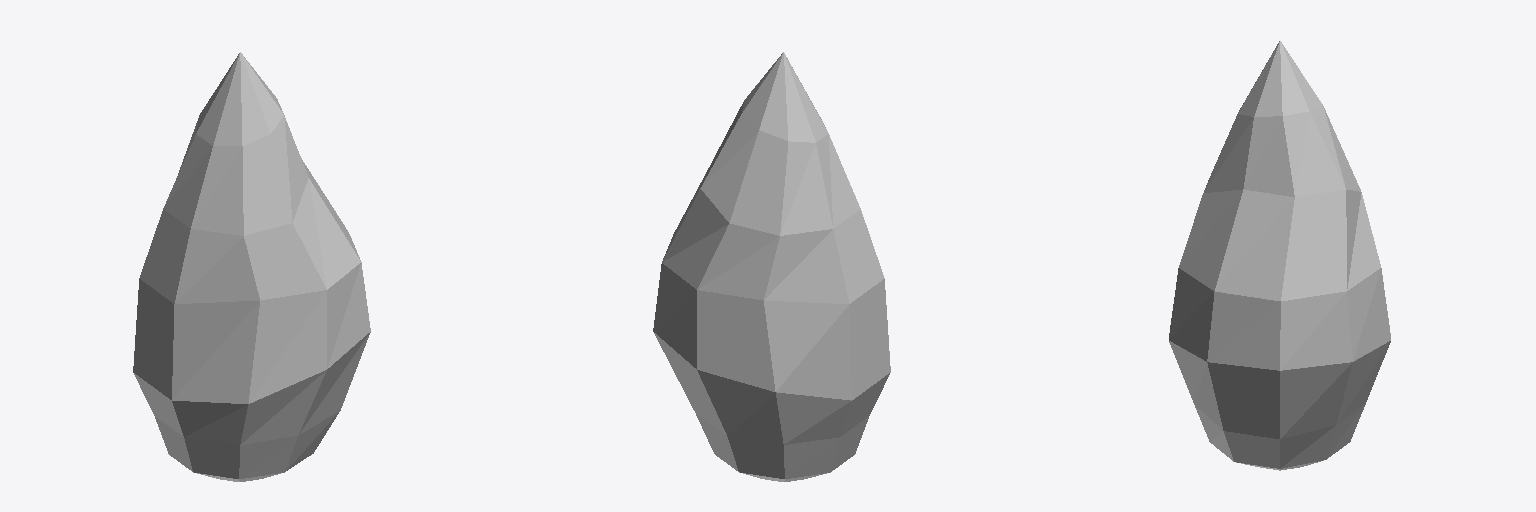
The model's file is cepha_gros.obj.
3 views of the same model, side by side, from view 1: azimuth 30°, elevation 25°; view 2: azimuth 150°, elevation 25°; view 3: azimuth 270°, elevation 25° (orthographic).
Parts seen in each view (by area): view 1: A_Cepha:Cepha2; view 2: A_Cepha:Cepha2; view 3: A_Cepha:Cepha2.
Boxes of the visible parts, x1=… form: A_Cepha:Cepha2: x1=133, y1=52, x2=370, y2=481; A_Cepha:Cepha2: x1=653, y1=52, x2=890, y2=481; A_Cepha:Cepha2: x1=1169, y1=41, x2=1390, y2=470.
Bounding box in the file's own units: 5.46 × 10.48 × 5.09.